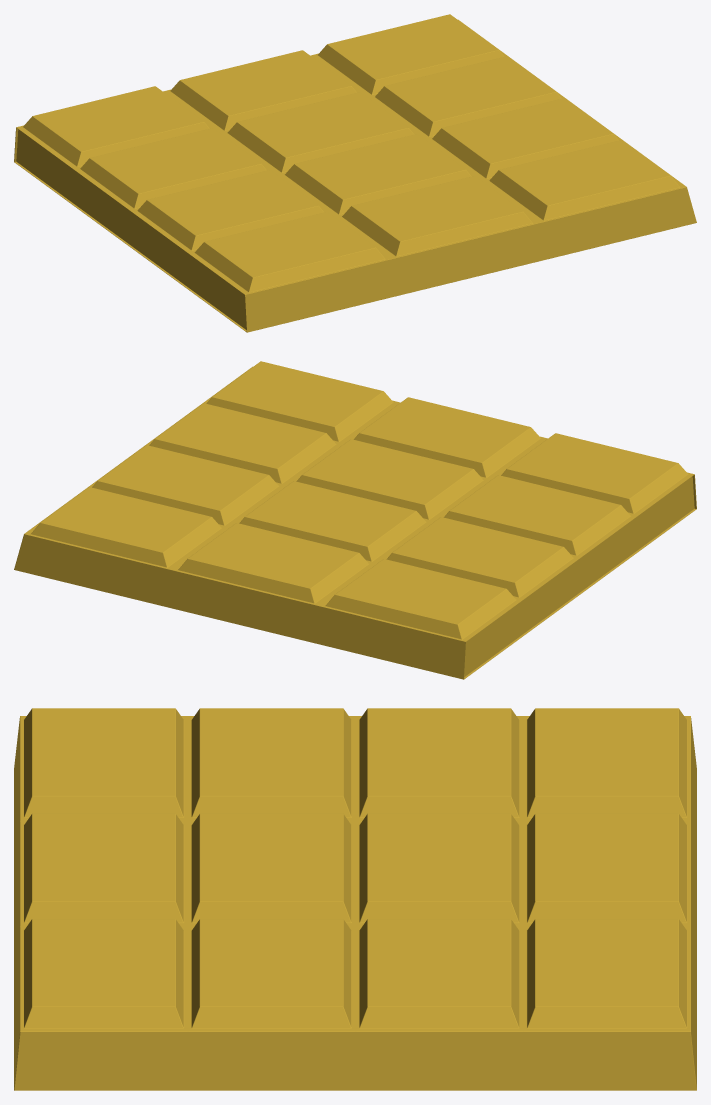
File: mitad-chocolate.glb
3 views of the same model, one above another, from view 1: azimuth 30°, elevation 25°; view 2: azimuth 150°, elevation 25°; view 3: azimuth 270°, elevation 25° (orthographic). The views are drawn at different scales.
Parts seen in each view (by area): view 1: mitad1; view 2: mitad1; view 3: mitad1.
Boxes of the visible parts, <box> form: mitad1: <box>14,14,696,332</box>; mitad1: <box>14,361,696,679</box>; mitad1: <box>14,708,696,1090</box>.
Size of the model in its own units: 8.05 by 0.8145 by 7.23.
